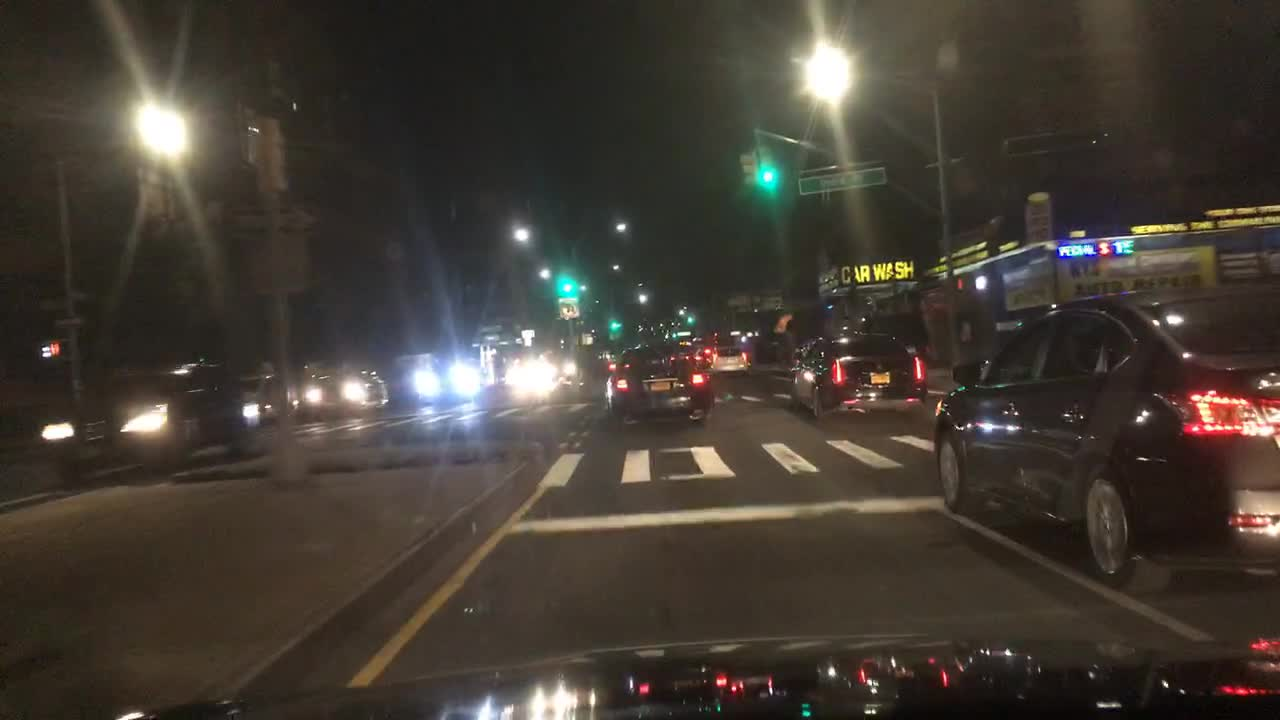car: (930, 283, 1278, 590), (58, 355, 238, 475), (786, 328, 924, 423), (602, 342, 713, 426), (296, 365, 389, 421), (0, 403, 68, 458), (860, 310, 930, 360), (411, 359, 481, 401), (238, 373, 286, 425), (745, 332, 785, 362), (713, 346, 750, 376), (589, 347, 615, 382), (685, 341, 711, 366)
traffic light: (258, 118, 286, 188), (551, 271, 589, 303), (752, 147, 778, 190), (37, 337, 73, 358), (738, 152, 753, 188), (606, 317, 621, 339), (682, 313, 696, 326), (580, 333, 594, 345)
traffic sign: (250, 233, 308, 294), (796, 166, 883, 196), (227, 207, 316, 230), (240, 101, 257, 164), (556, 297, 580, 319), (51, 315, 87, 326)
